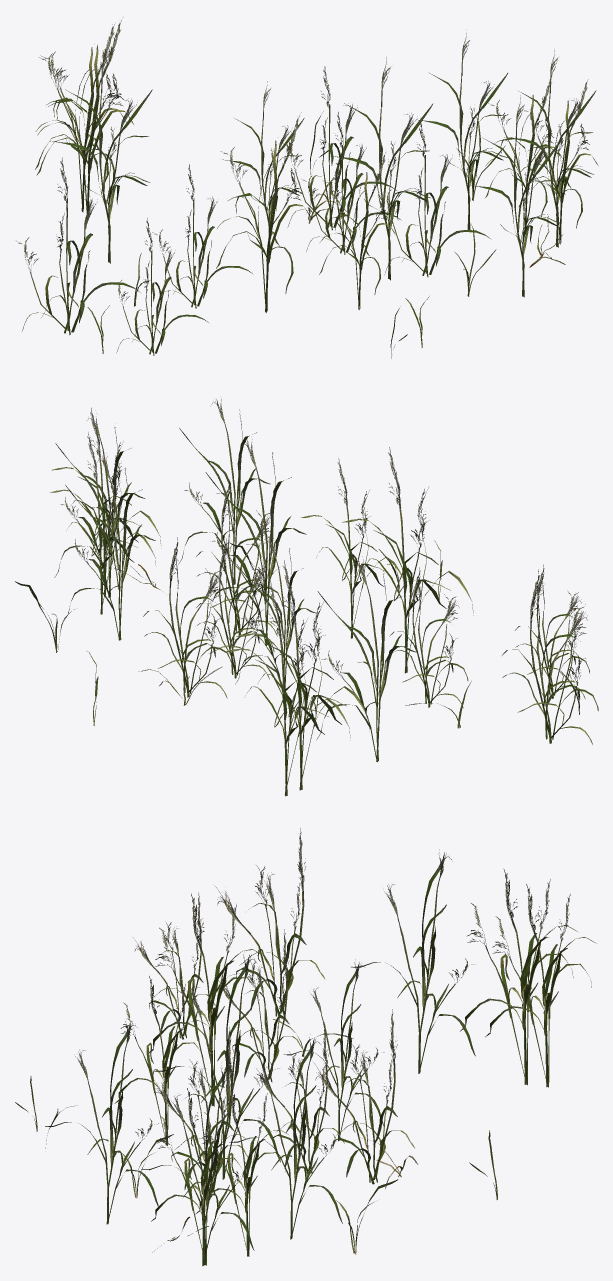
Rendered from cc0_grass_patch_a.glb.
3 renders of one model, top to bottom at view 1: azimuth 30°, elevation 25°; view 2: azimuth 150°, elevation 25°; view 3: azimuth 270°, elevation 25°, orthographic. The views are drawn at different scales.
Parts seen in each view (by area): view 1: cc0_grass_patch_a; view 2: cc0_grass_patch_a; view 3: cc0_grass_patch_a.
Boxes of the visible parts, x1,y1,x2,y2 form: cc0_grass_patch_a: (16, 20, 598, 358); cc0_grass_patch_a: (15, 396, 598, 796); cc0_grass_patch_a: (15, 828, 596, 1266).
Bounding box in the file's own units: 0.9627 × 0.3659 × 0.7946.
1 material, 1 textured.
